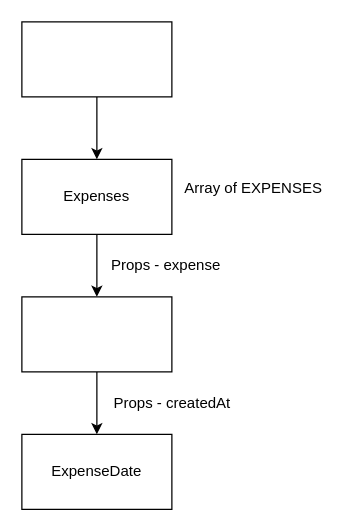
Some shapes in this 356 by 531 pixel diagram are drawn without their labels. The centre of each missing label's shape, as x and y in pixels:
"App" belongs at point (96, 59).
"ExpenseItem" belongs at point (96, 334).
